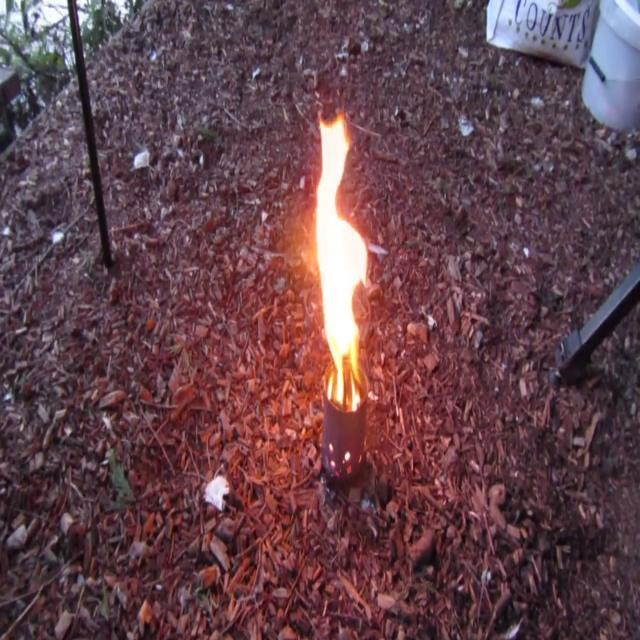Fire: (305, 114, 374, 400)
